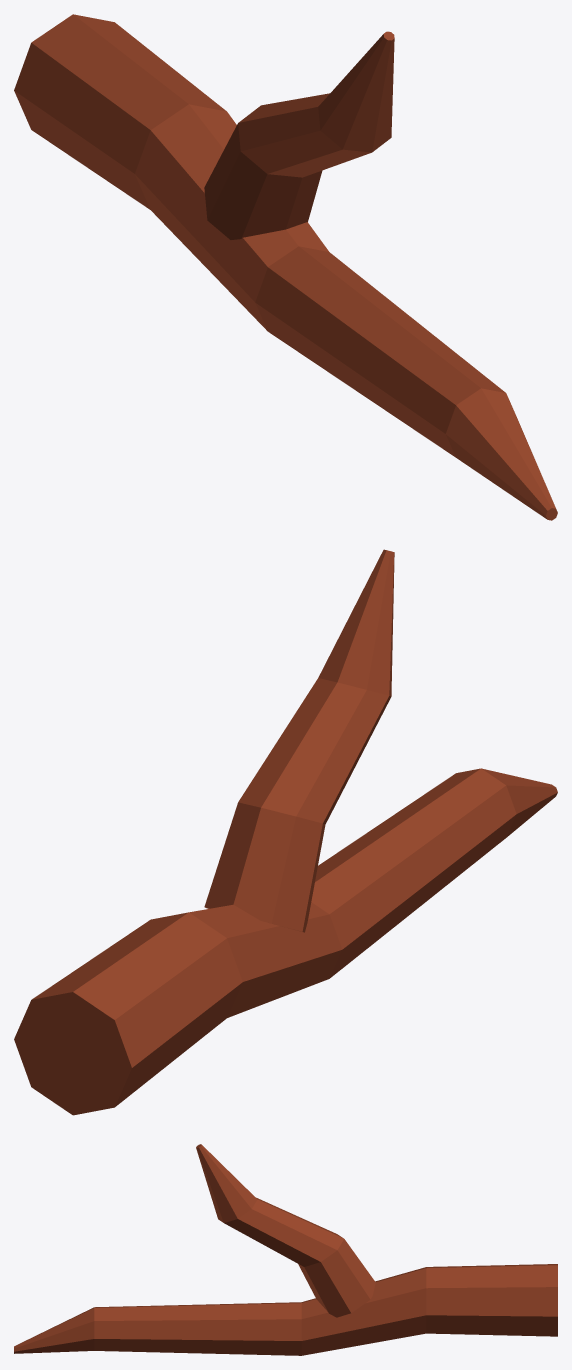
The model's file is Branch5.fbx.
3 renders of one model, top to bottom at view 1: azimuth 30°, elevation 25°; view 2: azimuth 150°, elevation 25°; view 3: azimuth 270°, elevation 25°, orthographic. The views are drawn at different scales.
Parts seen in each view (by area): view 1: Branch; view 2: Branch; view 3: Branch.
Part boxes in pixels (x1,y1,x2,y2): Branch: (14, 14, 557, 520); Branch: (14, 549, 557, 1115); Branch: (14, 1144, 557, 1355).
Size of the model in its own units: 120 by 358 by 840.
